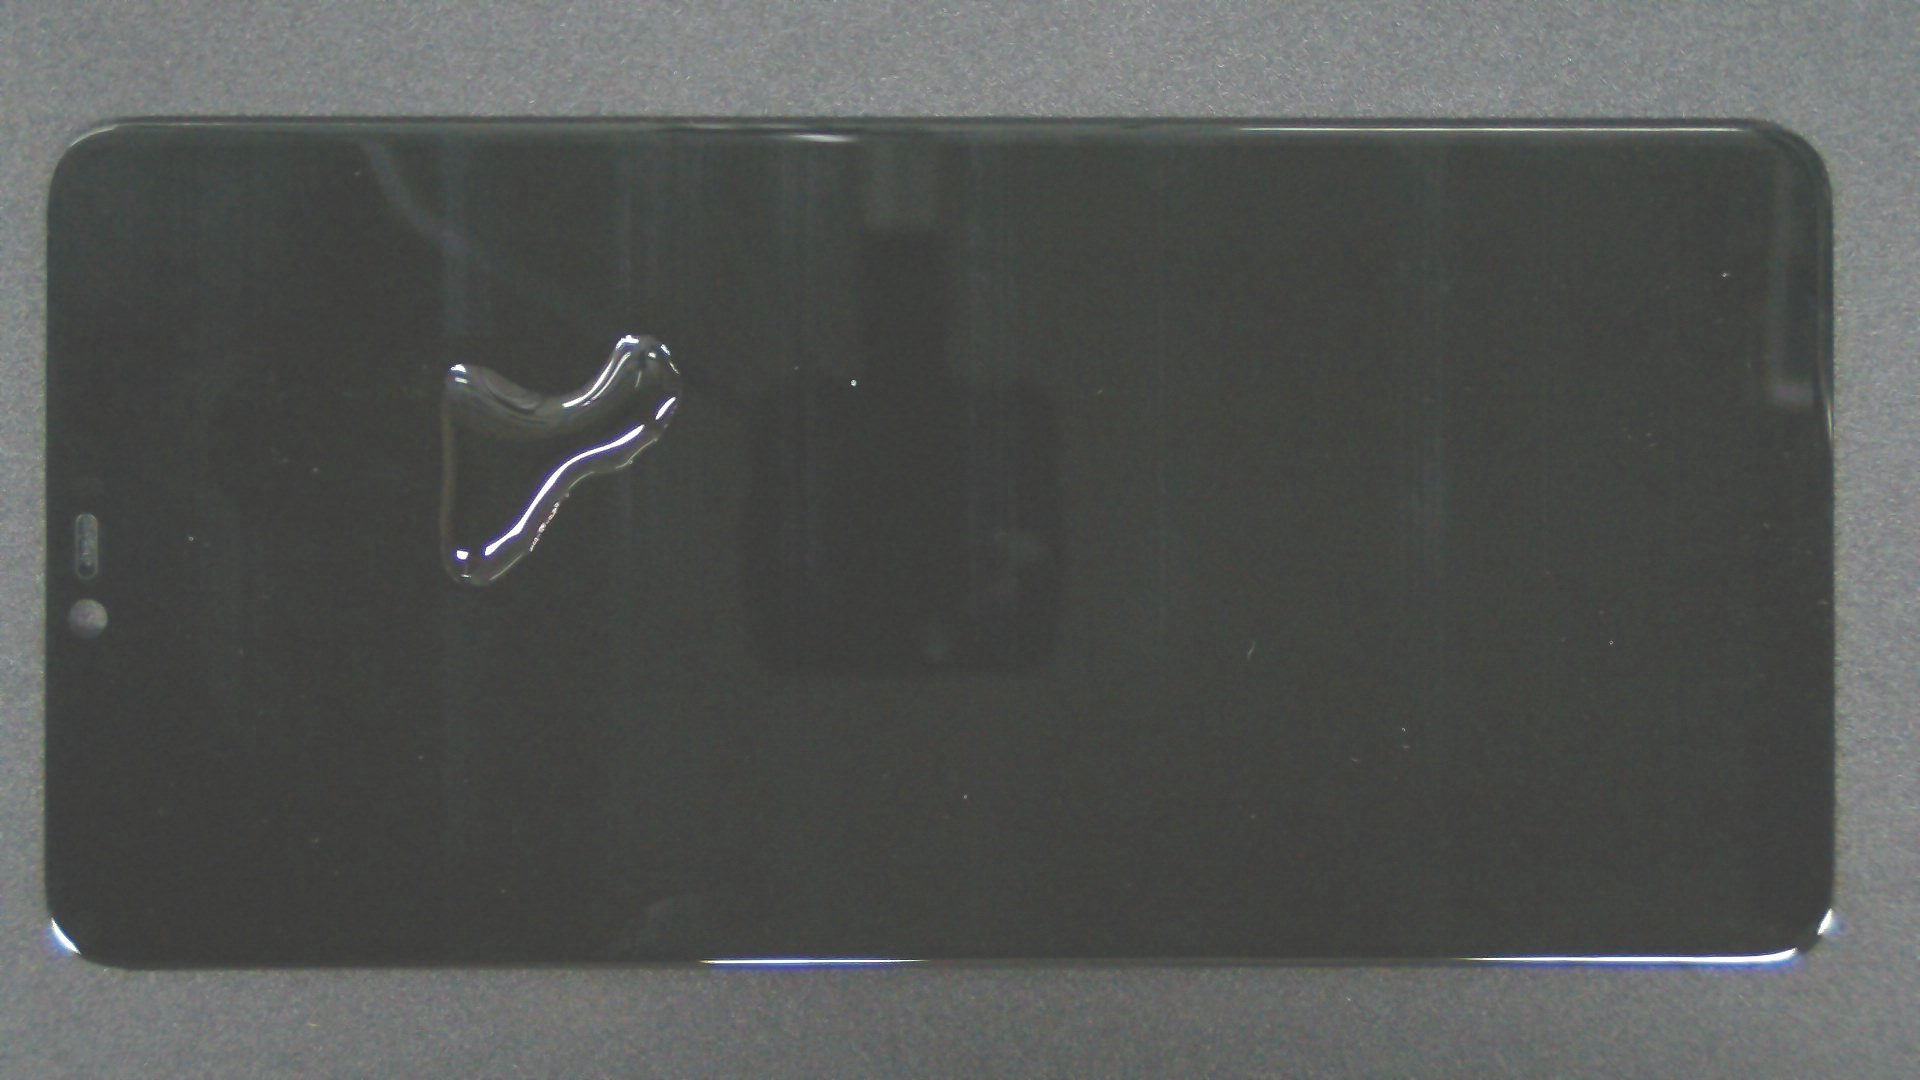oil: (427, 189, 1279, 568), (314, 167, 942, 502)
